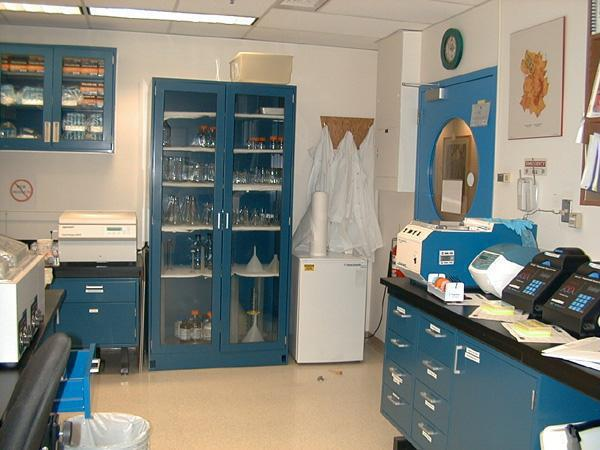Armario: (156, 76, 290, 364)
Electrodomestico: (295, 254, 364, 361)
Puerta: (418, 78, 490, 217)
